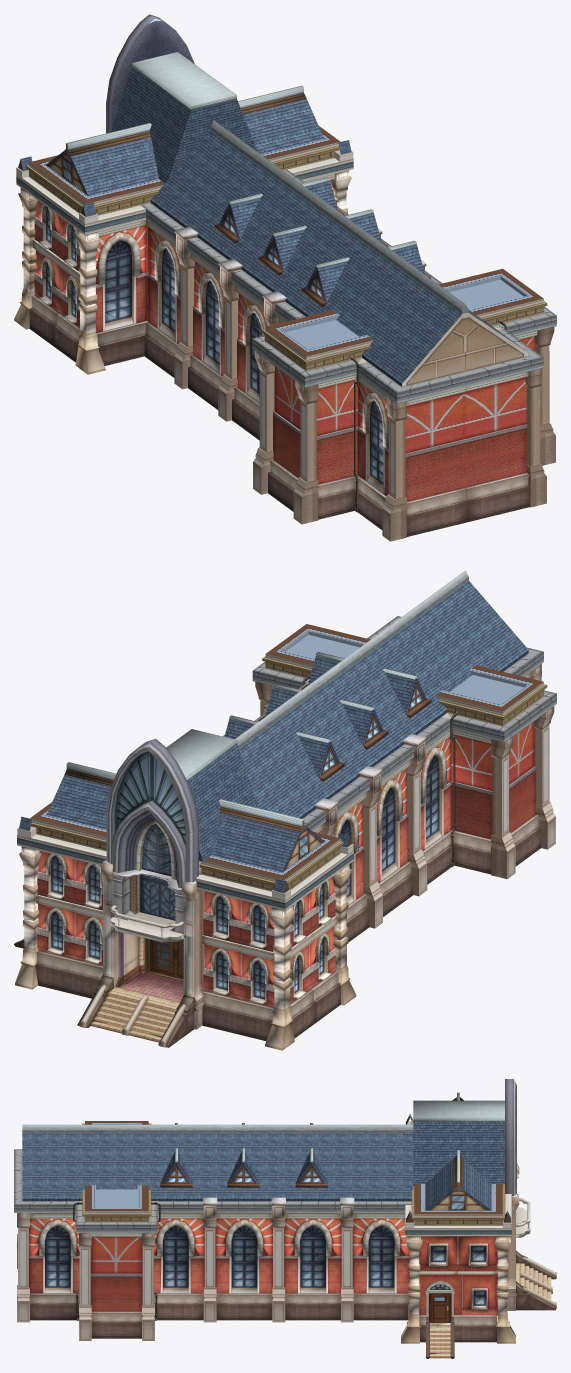
The model's file is s_SWEhall01.glb.
3 views of the same model, one above another, from view 1: azimuth 30°, elevation 25°; view 2: azimuth 150°, elevation 25°; view 3: azimuth 270°, elevation 25° (orthographic). The views are drawn at different scales.
Visible parts, largest first — view 1: s_SWEhall01; view 2: s_SWEhall01; view 3: s_SWEhall01.
Boxes of the visible parts, box(x1,y1,x2,y2) form: s_SWEhall01: box(14, 14, 556, 541); s_SWEhall01: box(14, 570, 556, 1050); s_SWEhall01: box(14, 1079, 556, 1358).
Bounding box in the file's own units: 20.22 × 17.21 × 39.58.
6 materials, 6 textured.
